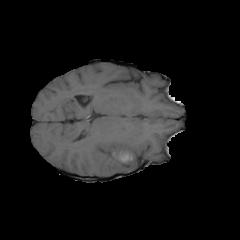glioma: (96, 139, 139, 172)
